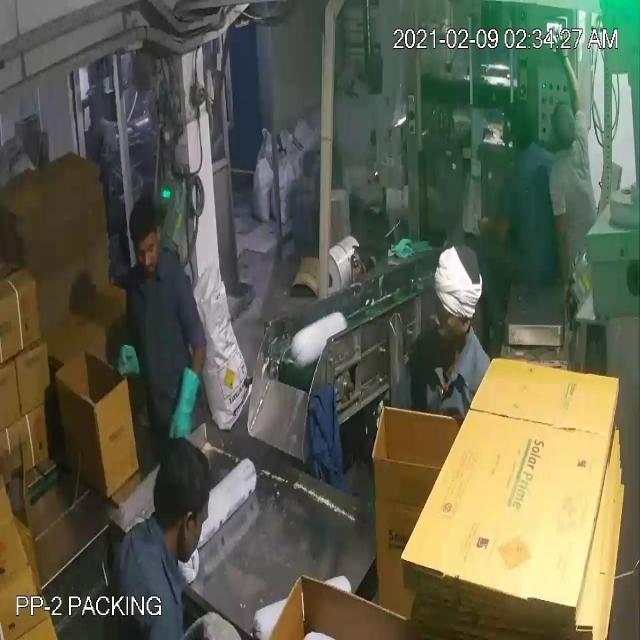Gloves: (42, 60, 188, 415)
